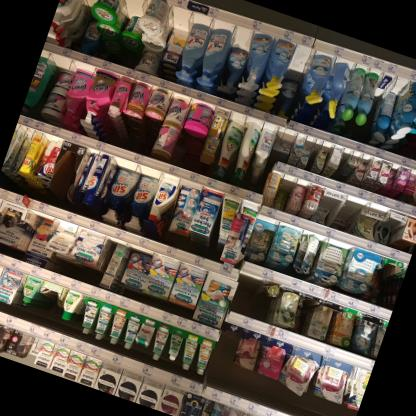empty_space: (43, 141, 89, 210), (203, 321, 246, 391), (229, 273, 262, 317), (333, 148, 353, 183), (305, 139, 324, 173)
